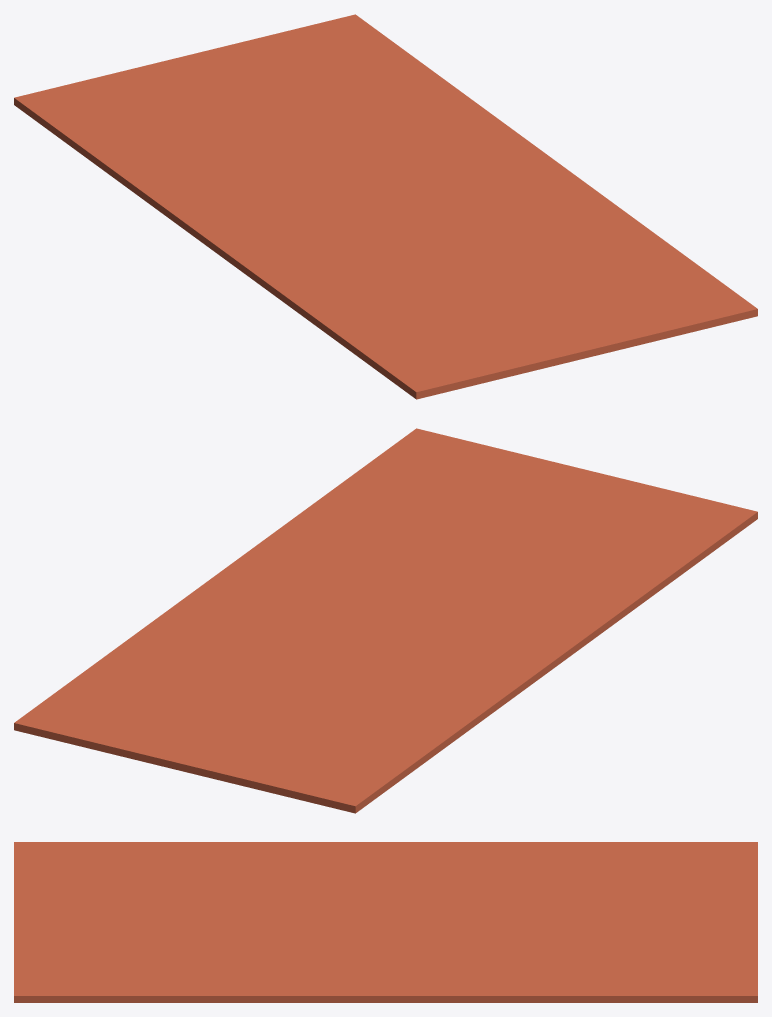
File: floor3.fbx
3 renders of one model, top to bottom at view 1: azimuth 30°, elevation 25°; view 2: azimuth 150°, elevation 25°; view 3: azimuth 270°, elevation 25°, orthographic. The views are drawn at different scales.
Parts seen in each view (by area): view 1: mergedBlocks; view 2: mergedBlocks; view 3: mergedBlocks.
Boxes of the visible parts, x1,y1,x2,y2 form: mergedBlocks: [14, 14, 757, 399]; mergedBlocks: [14, 428, 757, 813]; mergedBlocks: [14, 842, 757, 1002].
Bounding box in the file's own units: 49 × 1 × 100.
